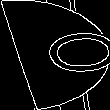O_W: (7, 29, 103, 81)
